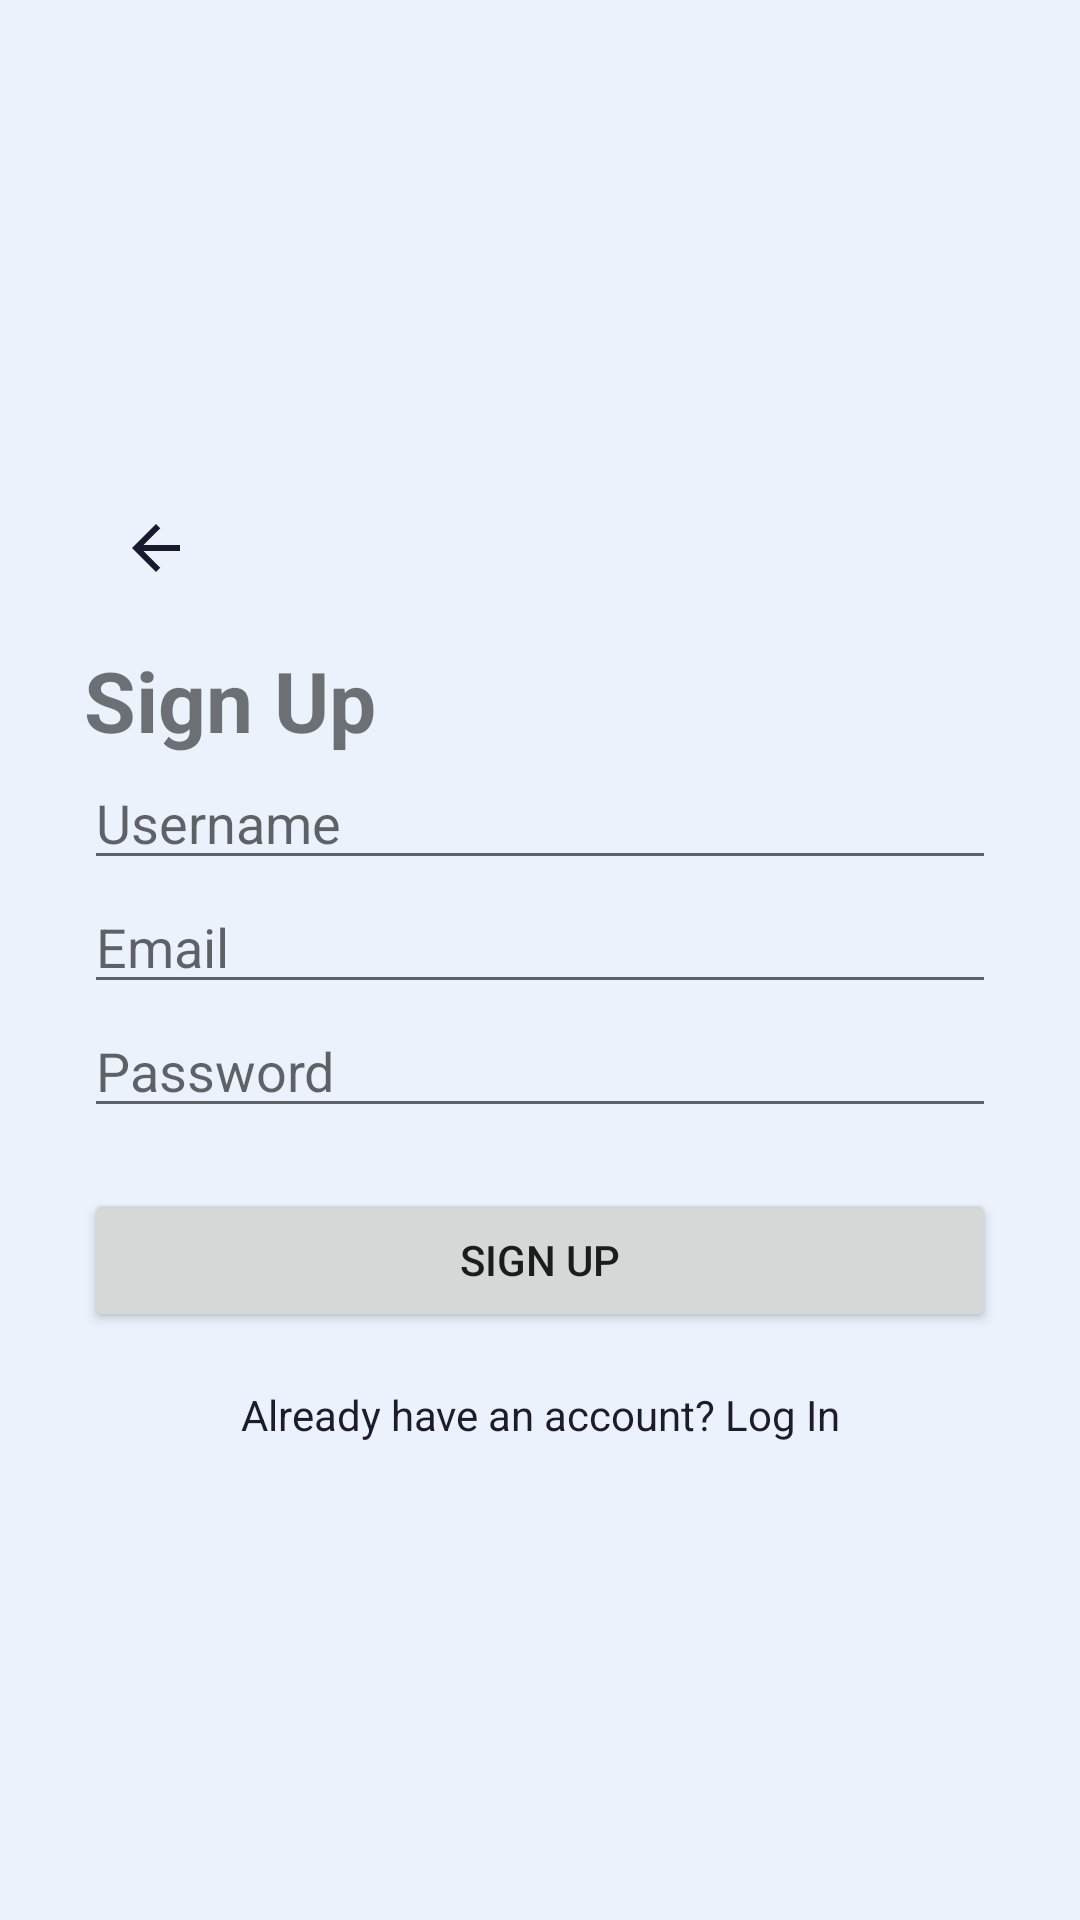

Locate icon controls on the screen. Image size 1080px×1920px, boxes as (x1, y1, x2, y2).
Back: (132, 524, 180, 572)
